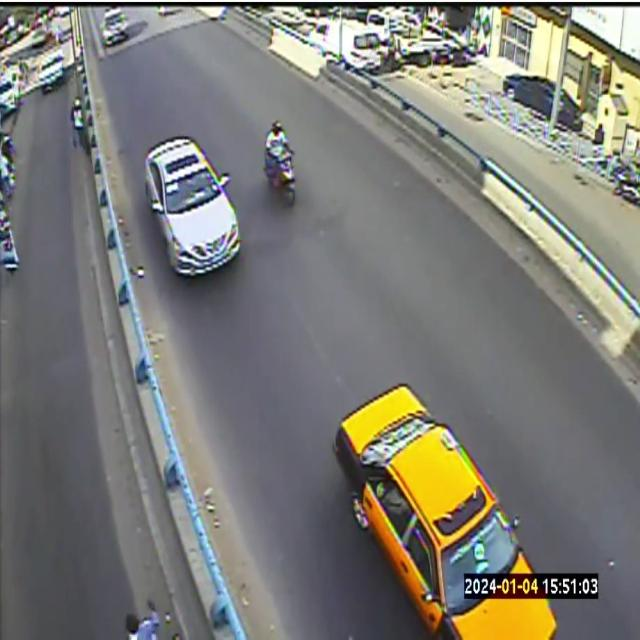car: (333, 384, 557, 639), (145, 136, 240, 275), (101, 8, 128, 45)
